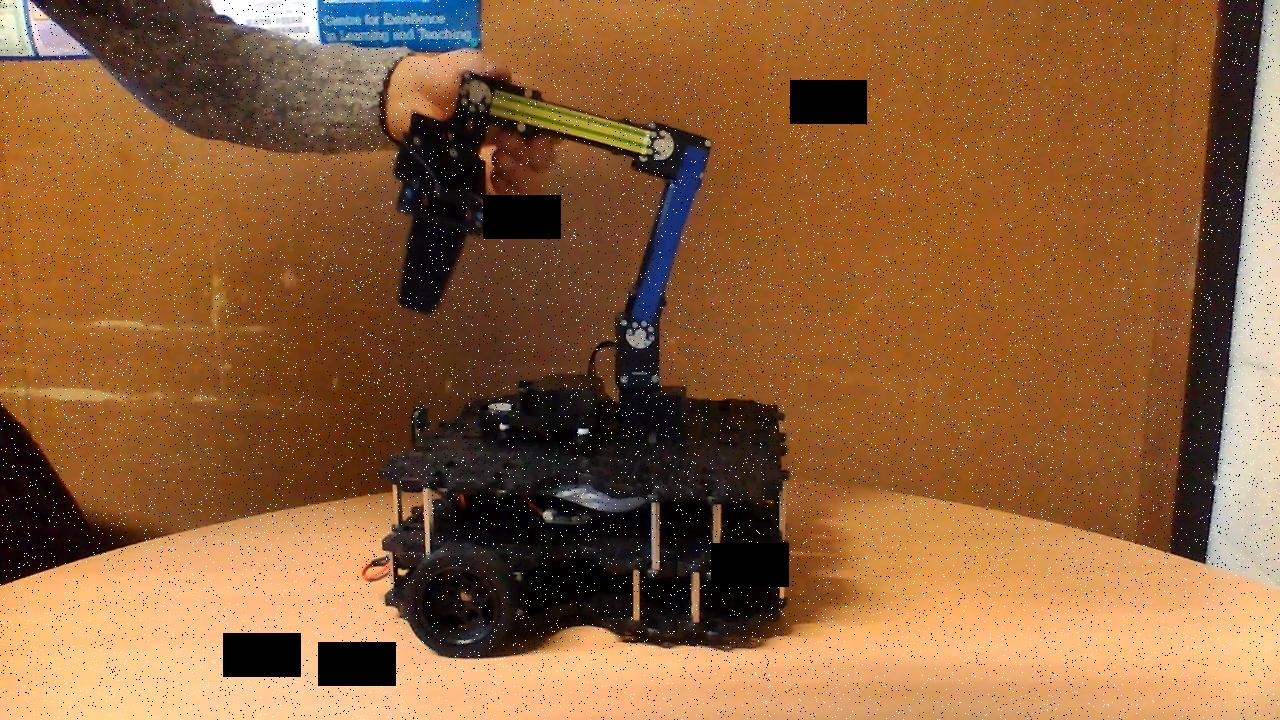Arm: (614, 137, 716, 357)
Hand: (387, 106, 504, 319)
Wrist: (454, 69, 683, 179)
base: (359, 369, 796, 662)
